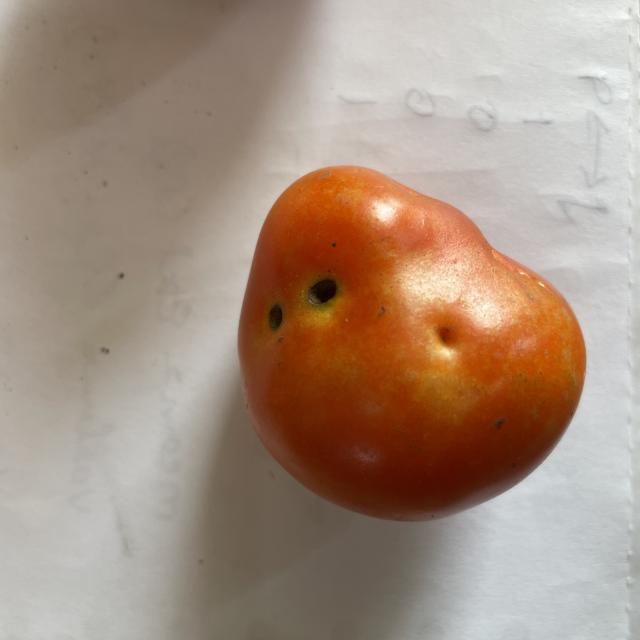fruitworm_bore: (304, 268, 346, 316), (258, 298, 294, 336)
